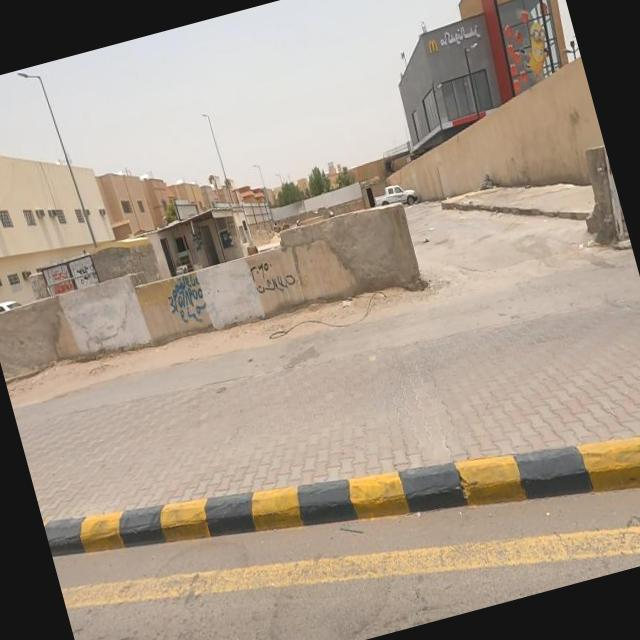debris: (206, 210, 346, 354), (130, 235, 252, 372)
